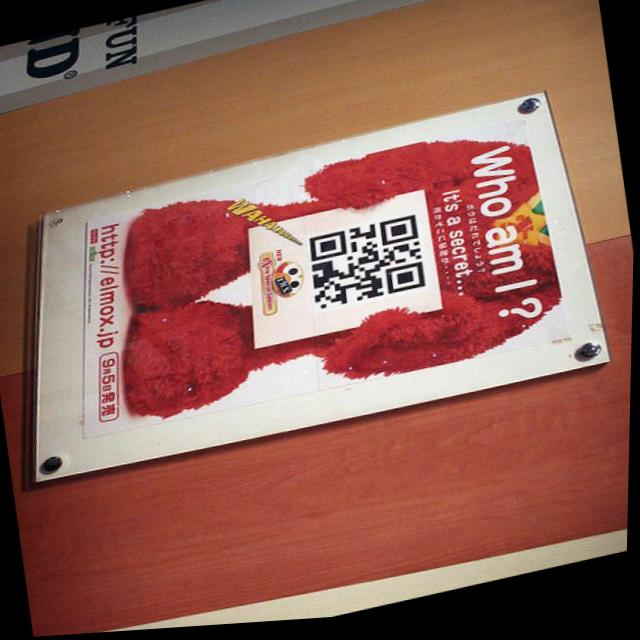qrcode: (308, 221, 428, 315)
